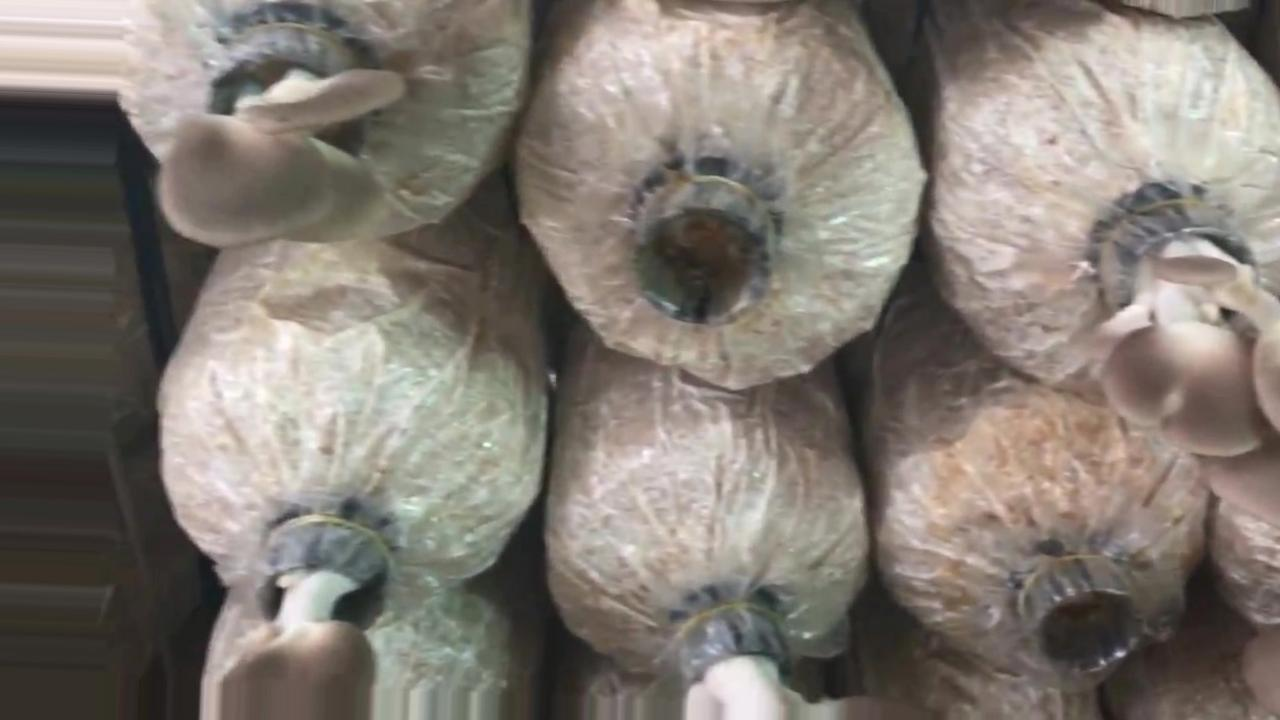nam: (1103, 195, 1280, 522), (163, 27, 414, 252), (215, 513, 391, 720)
